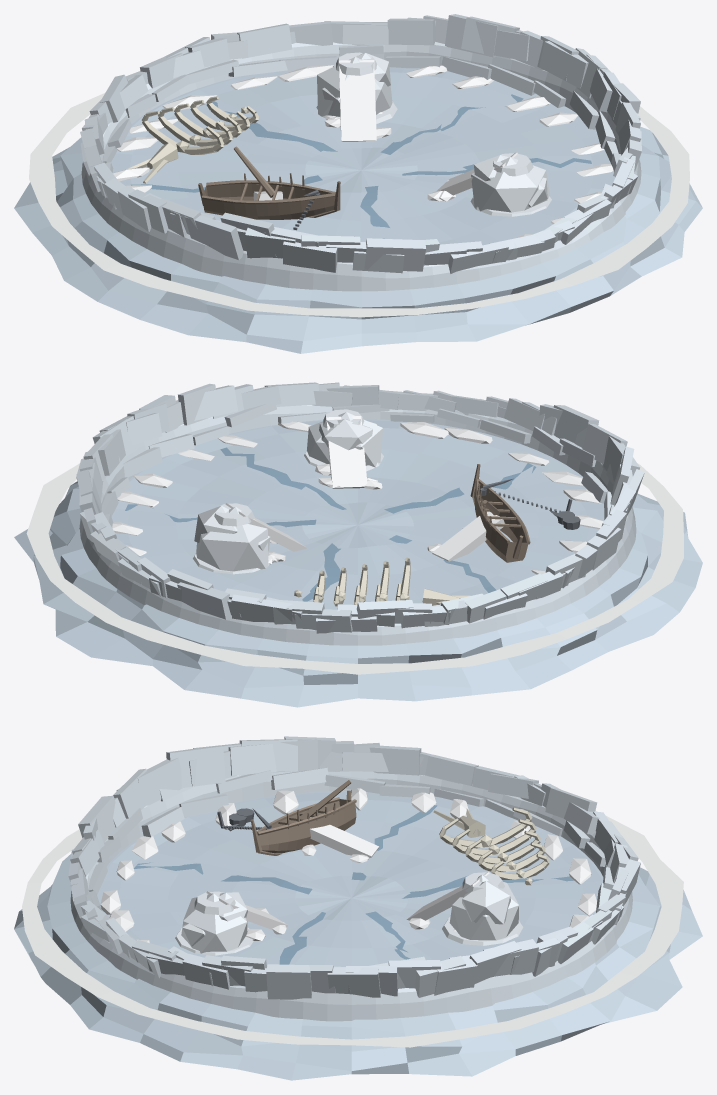
The model's file is arena_rimefang.glb.
3 views of the same model, one above another, from view 1: azimuth 30°, elevation 25°; view 2: azimuth 150°, elevation 25°; view 3: azimuth 270°, elevation 25° (orthographic).
Parts seen in each view (by area): view 1: RimefangArena_Base, RimefangArena_Ridge, RimefangArena_Foam, RimefangArena_Drifts, RimefangArena_Bergs, RimefangArena_Hull, RimefangArena_Bones, RimefangArena_Leads; view 2: RimefangArena_Base, RimefangArena_Ridge, RimefangArena_Foam, RimefangArena_Drifts, RimefangArena_Bergs, RimefangArena_Leads, RimefangArena_Hull, RimefangArena_Bones, RimefangArena_Ironwork; view 3: RimefangArena_Base, RimefangArena_Ridge, RimefangArena_Foam, RimefangArena_Drifts, RimefangArena_Bergs, RimefangArena_Bones, RimefangArena_Hull, RimefangArena_Leads, RimefangArena_Ironwork.
Part boxes in pixels (x1,y1,x2,y2): RimefangArena_Base: (14,67,702,353); RimefangArena_Ridge: (80,14,641,291); RimefangArena_Foam: (29,93,689,317); RimefangArena_Drifts: (113,60,613,238); RimefangArena_Bergs: (316,52,551,216); RimefangArena_Hull: (198,146,340,219); RimefangArena_Bones: (126,96,258,183); RimefangArena_Leads: (131,94,591,238); RimefangArena_Base: (14,419,702,707); RimefangArena_Ridge: (76,382,644,645); RimefangArena_Foam: (26,463,683,674); RimefangArena_Drifts: (112,416,603,574); RimefangArena_Bergs: (193,409,383,574); RimefangArena_Leads: (125,447,536,601); RimefangArena_Hull: (470,464,530,562); RimefangArena_Bones: (294,557,470,606); RimefangArena_Ironwork: (480,478,580,529); RimefangArena_Base: (14,791,702,1080); RimefangArena_Ridge: (68,736,640,1021); RimefangArena_Foam: (22,811,683,1047); RimefangArena_Drifts: (100,788,596,942); RimefangArena_Bergs: (175,872,523,955); RimefangArena_Bones: (433,807,549,885); RimefangArena_Hull: (250,780,356,855); RimefangArena_Leads: (134,805,573,964); RimefangArena_Ironwork: (217,808,272,831).
Bounding box in the file's own units: 194 × 30.14 × 194.
